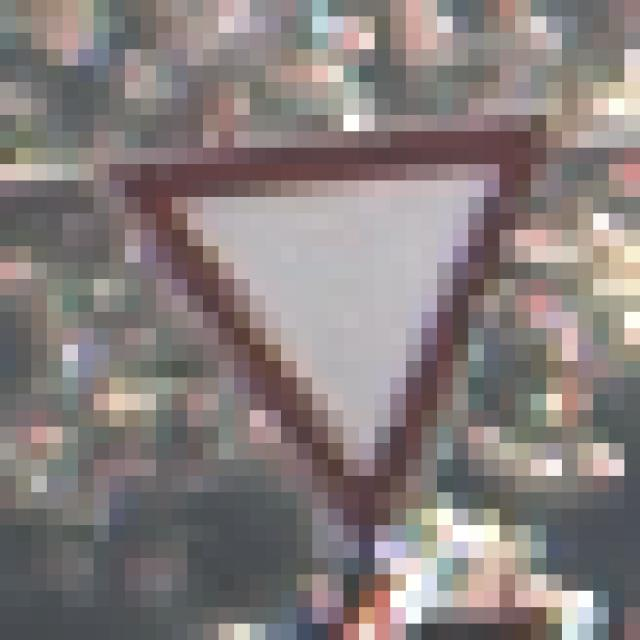Give Way: (95, 83, 563, 559)
